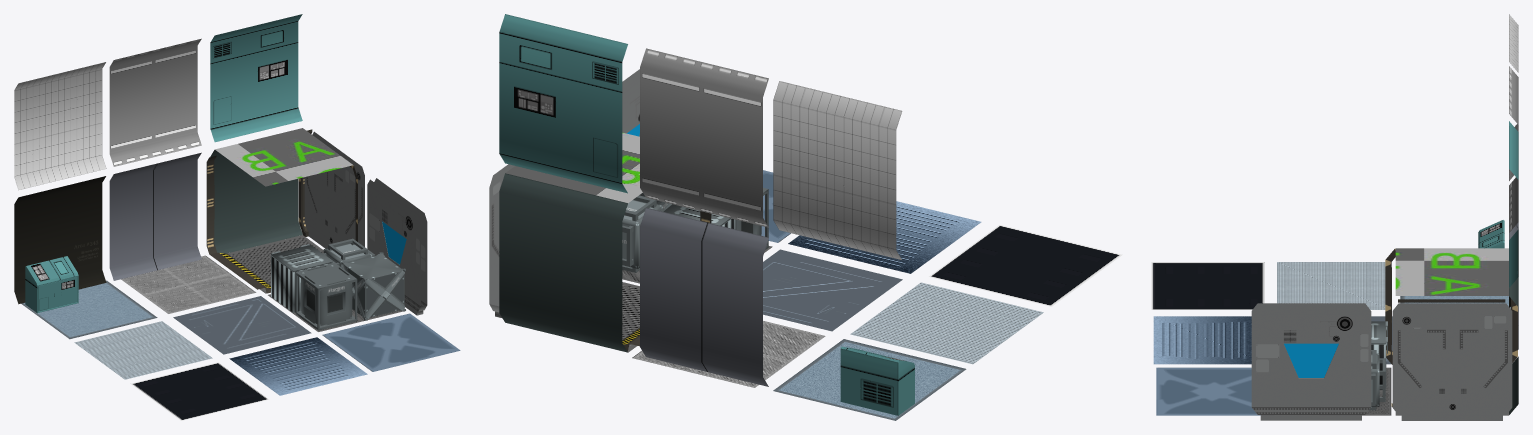
File: SciFiPack.fbx
3 views of the same model, side by side, from view 1: azimuth 30°, elevation 25°; view 2: azimuth 150°, elevation 25°; view 3: azimuth 270°, elevation 25° (orthographic). The views are drawn at different scales.
Visible parts, largest first — view 1: Walls_6, FloorCeilings_9, Crates, Doors, Ceiling_Straight, Doorways, SlidingDoor_Window; view 2: Walls_6, FloorCeilings_9, Crates, Doors, Ceiling_Straight; view 3: Doors, FloorCeilings_9, Ceiling_Straight, Walls_6, Doorways, SlidingDoor_Window, Crates.
Part boxes in pixels (x1=…): Walls_6: x1=14, y1=14, x2=302, y2=313; FloorCeilings_9: x1=21, y1=235, x2=460, y2=420; Crates: x1=271, y1=238, x2=405, y2=330; Doors: x1=304, y1=131, x2=427, y2=315; Ceiling_Straight: x1=215, y1=128, x2=353, y2=186; Doorways: x1=206, y1=129, x2=357, y2=293; SlidingDoor_Window: x1=382, y1=221, x2=406, y2=264; Walls_6: x1=499, y1=14, x2=914, y2=415; FloorCeilings_9: x1=622, y1=170, x2=1122, y2=420; Crates: x1=622, y1=187, x2=768, y2=272; Doors: x1=489, y1=69, x2=639, y2=317; Ceiling_Straight: x1=505, y1=132, x2=642, y2=202; Doors: x1=1251, y1=303, x2=1512, y2=420; FloorCeilings_9: x1=1151, y1=262, x2=1515, y2=415; Ceiling_Straight: x1=1395, y1=248, x2=1508, y2=295; Walls_6: x1=1478, y1=14, x2=1518, y2=414; Doorways: x1=1385, y1=248, x2=1517, y2=406; SlidingDoor_Window: x1=1284, y1=343, x2=1338, y2=377; Crates: x1=1369, y1=321, x2=1387, y2=410.
Bounding box in the file's own units: 11.7 × 8.39 × 11.33.
6 materials, 6 textured.
